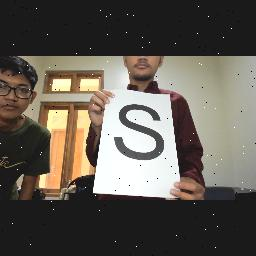s: (110, 102, 170, 166)
